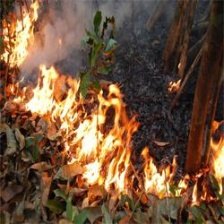fire: (6, 9, 224, 203)
